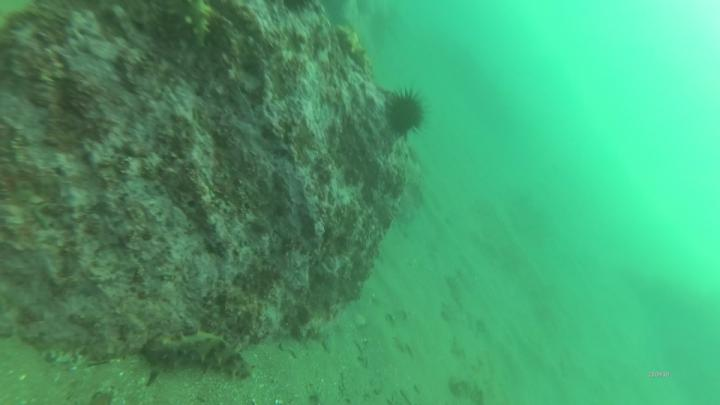echinus: (383, 83, 428, 143)
holothurian: (147, 330, 257, 382)
